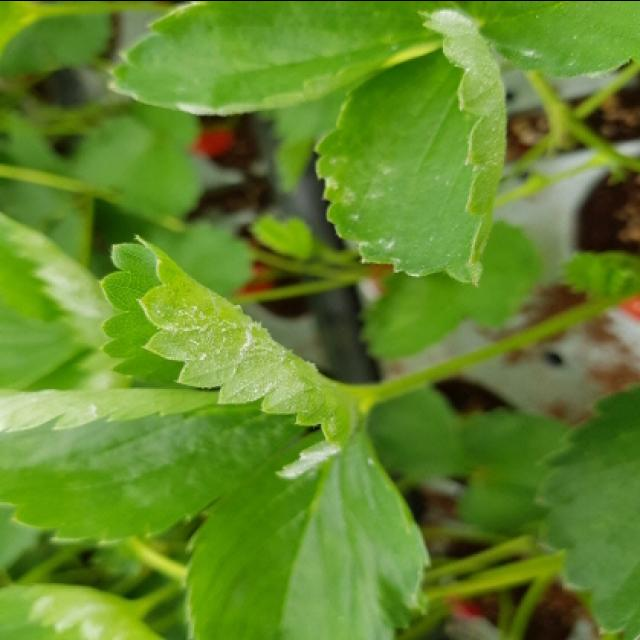Powdery Mildew Leaf: (95, 232, 366, 480), (183, 418, 432, 638), (315, 6, 506, 288)
